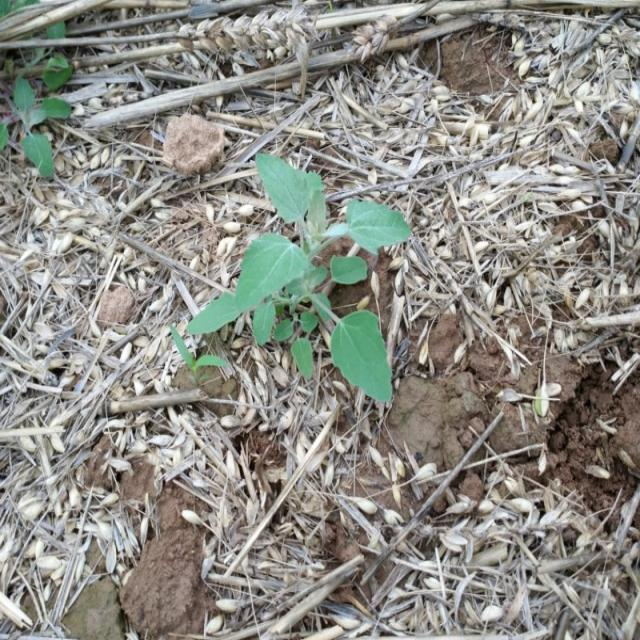goosefoots: (188, 152, 426, 422)
